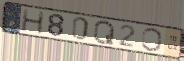0: (71, 16, 91, 42)
2: (117, 24, 138, 49)
8: (47, 13, 66, 37)
H: (20, 8, 46, 36)
O: (140, 27, 163, 53)
Q: (92, 20, 116, 46)
